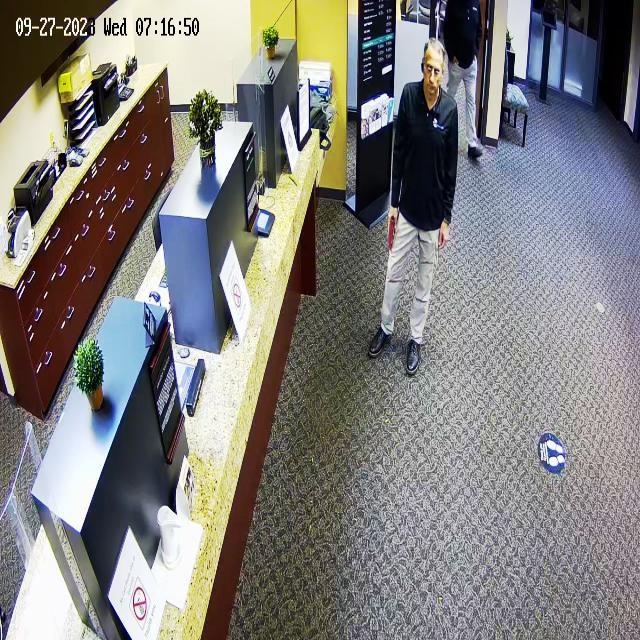Gun: (367, 198, 406, 259)
